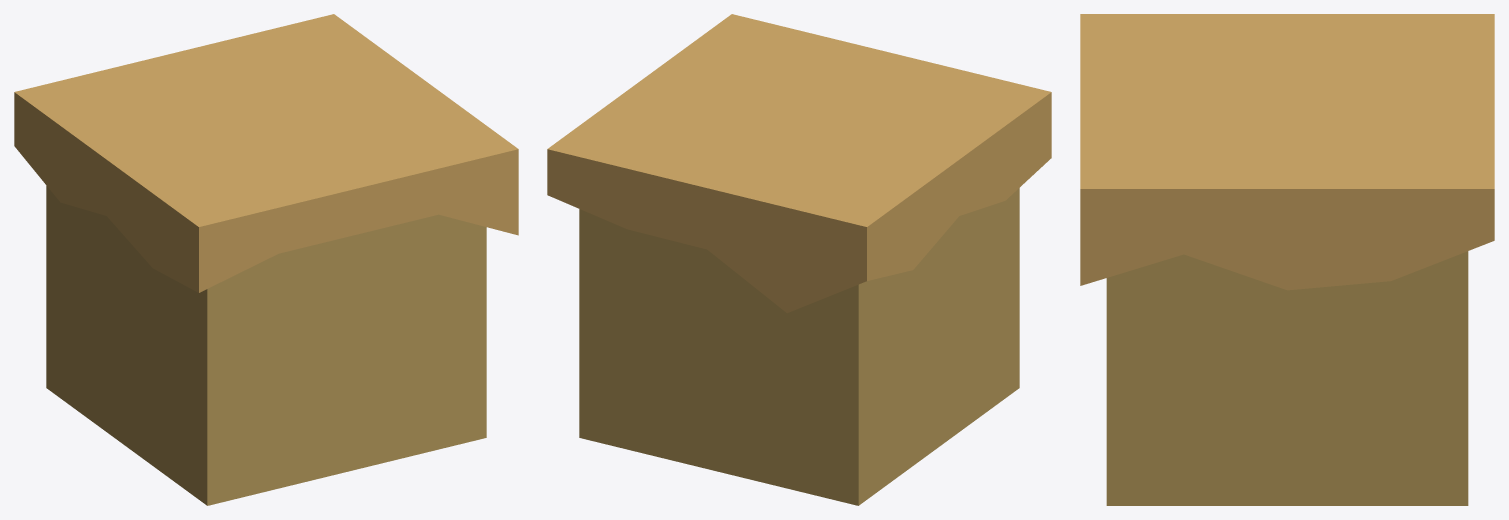
Rendered from Grid_Desert_1.fbx.
3 renders of one model, left to right at view 1: azimuth 30°, elevation 25°; view 2: azimuth 150°, elevation 25°; view 3: azimuth 270°, elevation 25°, orthographic. The views are drawn at different scales.
Visible parts, largest first — view 1: Cube.005; view 2: Cube.005; view 3: Cube.005.
Part boxes in pixels (left/top/right/bottom): Cube.005: left=14, top=14, right=518, bottom=505; Cube.005: left=547, top=14, right=1051, bottom=505; Cube.005: left=1080, top=14, right=1494, bottom=505.
Bounding box in the file's own units: 114 × 100 × 114.
